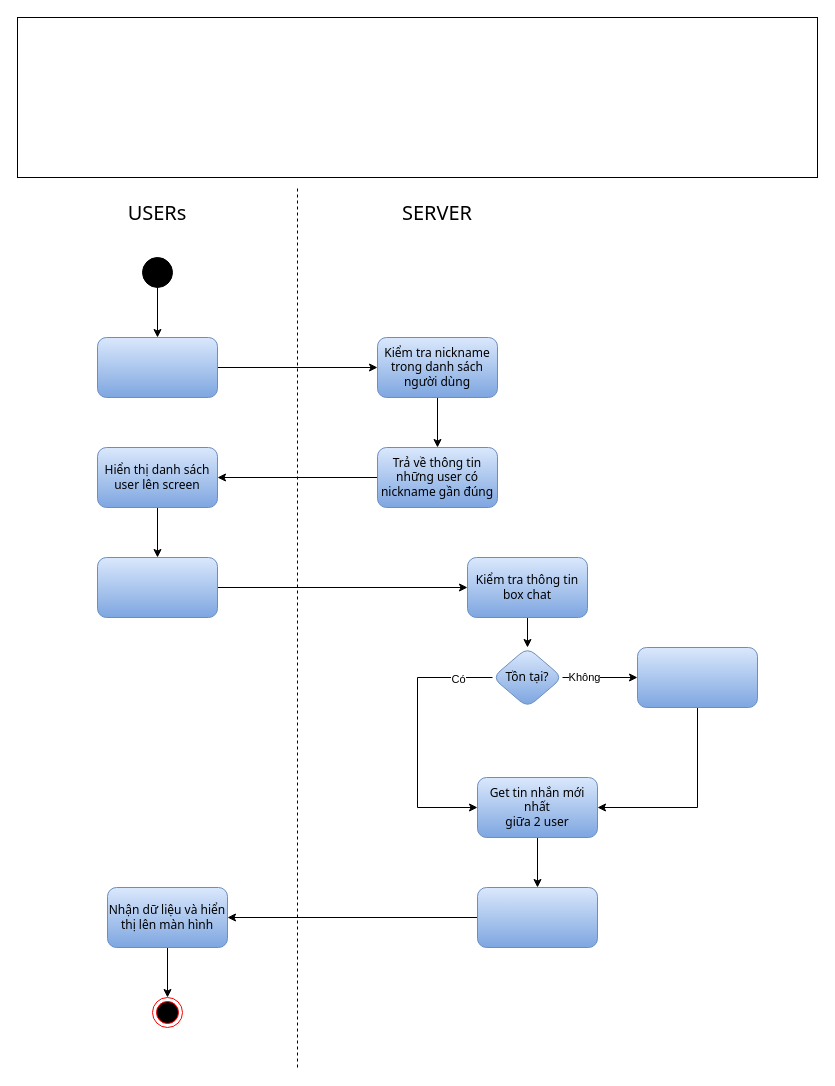
Some shapes in this 835 by 1086 pixel diagram are drawn without their labels. Each missing label, with the box of its shape:
Chọn user cần chat: (96, 556, 218, 618)
Nhập nickname: (96, 336, 218, 398)
Trả về thông tin box chat và tin nhắn mới nhất giữa 2 user: (476, 886, 598, 948)
Tạo mới box chat: (636, 646, 758, 708)
